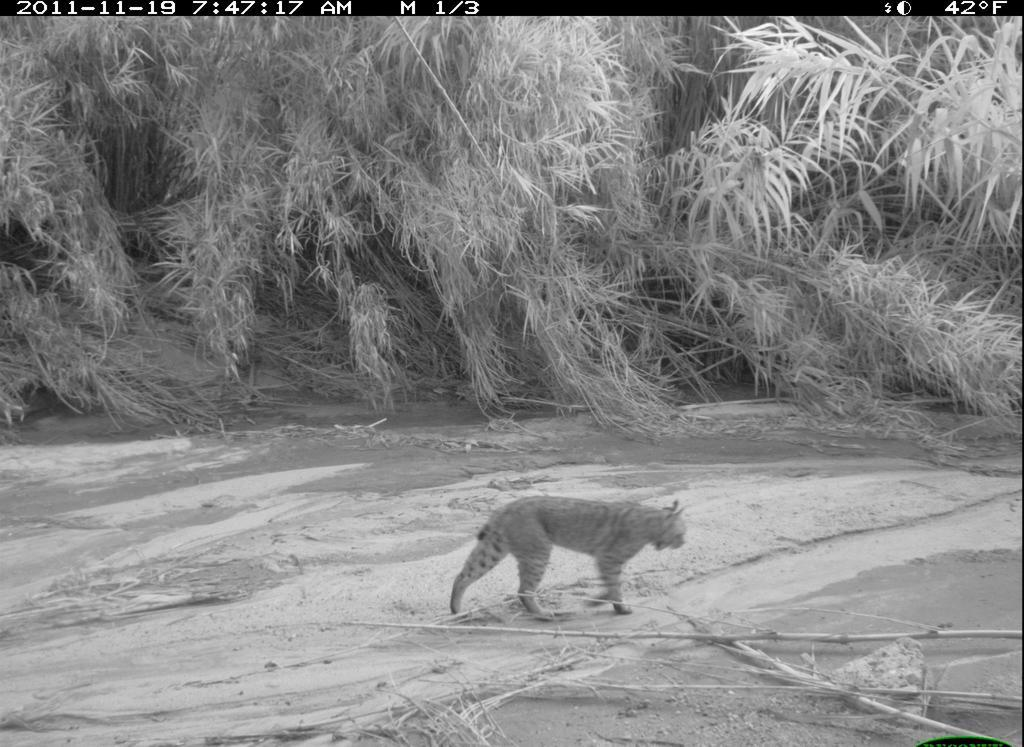bobcat: (451, 483, 702, 632)
